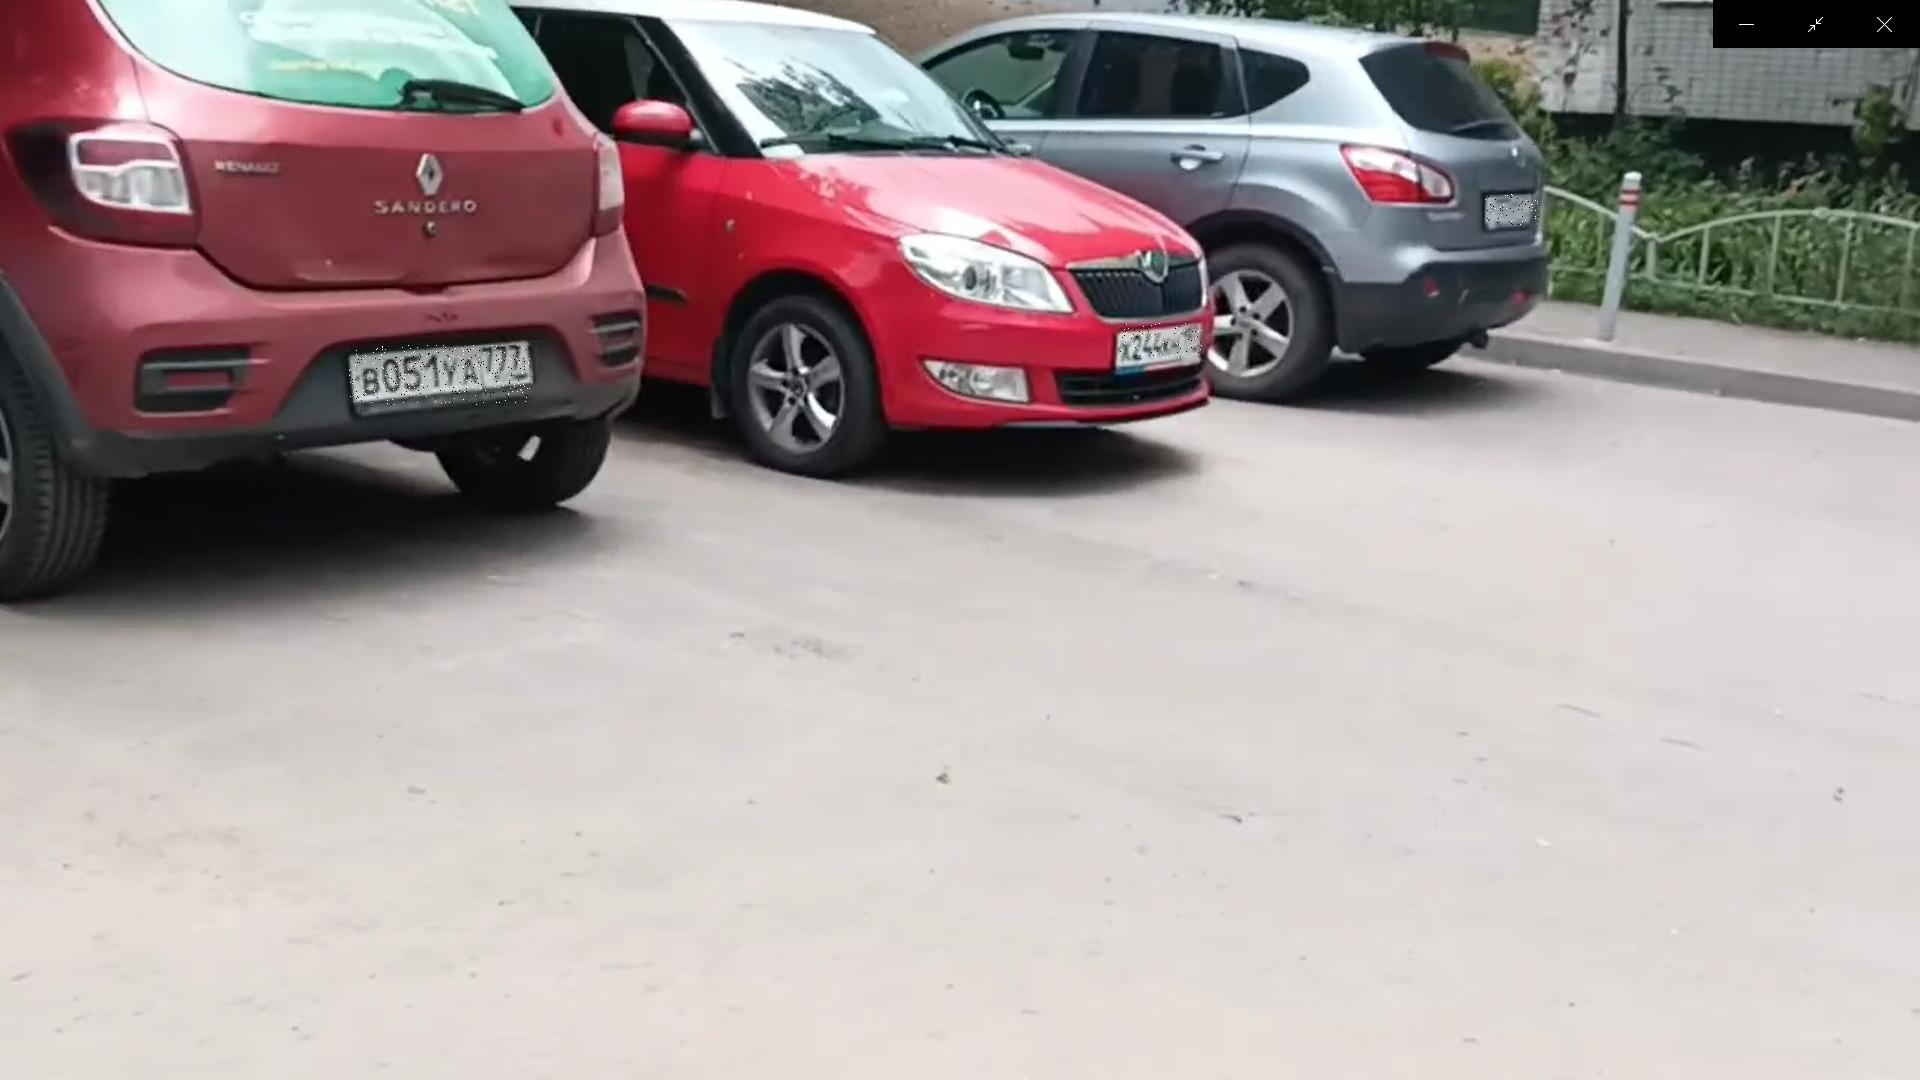plate: (350, 347, 533, 407), (1122, 325, 1204, 360), (1486, 196, 1541, 227)
